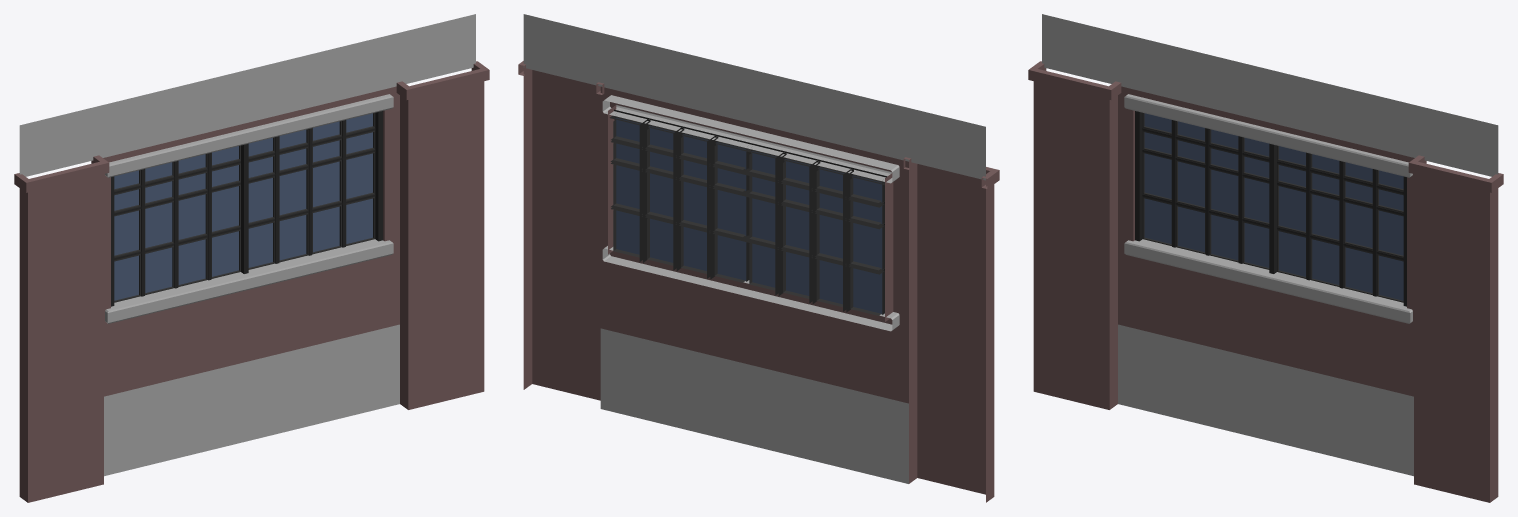
The model's file is muurtje.fbx.
3 renders of one model, left to right at view 1: azimuth 30°, elevation 25°; view 2: azimuth 150°, elevation 25°; view 3: azimuth 330°, elevation 25°, orthographic.
Parts seen in each view (by area): view 1: Plane998, Plane1041, Plane1029, Plane1000, Plane1013, Object372, Object369, Object371, Object370, Object368, Plane1026, Plane1025 (+4 smaller); view 2: Plane998, Plane1041, Plane1029, Object372, Plane1000, Plane1013, Object369, Object371, Object370, Object368, Plane1026, Plane1027 (+4 smaller); view 3: Plane998, Plane1029, Plane1041, Plane1000, Plane1013, Object372, Object370, Object368, Object369, Object371, Plane1027, Plane1028 (+4 smaller).
Boxes of the visible parts, box(x1,y1,x2,y2) form: Plane998: box(103, 86, 399, 396); Plane1041: box(14, 155, 109, 502); Plane1029: box(396, 61, 489, 409); Plane1000: box(114, 146, 238, 300); Plane1013: box(248, 113, 372, 267); Object372: box(111, 111, 382, 306); Object369: box(171, 361, 247, 459); Object371: box(324, 324, 399, 422); Object370: box(248, 343, 323, 440); Object368: box(104, 380, 171, 476); Plane1026: box(171, 69, 247, 140); Plane1025: box(95, 88, 171, 157); Plane998: box(600, 86, 908, 403); Plane1041: box(903, 157, 999, 502); Plane1029: box(518, 61, 604, 400); Object372: box(609, 109, 887, 314); Plane1000: box(751, 151, 882, 314); Plane1013: box(615, 117, 746, 280); Object369: box(754, 366, 831, 465); Object371: box(600, 328, 677, 427); Object370: box(677, 347, 754, 446); Object368: box(832, 385, 908, 483); Plane1026: box(754, 70, 831, 142); Plane1027: box(677, 51, 754, 123); Plane998: box(1118, 86, 1414, 396); Plane1029: box(1408, 155, 1503, 502); Plane1041: box(1028, 61, 1121, 409); Plane1000: box(1144, 113, 1269, 267); Plane1013: box(1279, 146, 1403, 300); Object372: box(1135, 111, 1406, 306); Object370: box(1270, 361, 1346, 459); Object368: box(1118, 324, 1193, 422); Object369: box(1194, 343, 1269, 440); Object371: box(1346, 380, 1413, 476); Plane1027: box(1270, 69, 1346, 140); Plane1028: box(1346, 88, 1422, 157).
Size of the model in its own units: 913 by 700 by 74.52.
